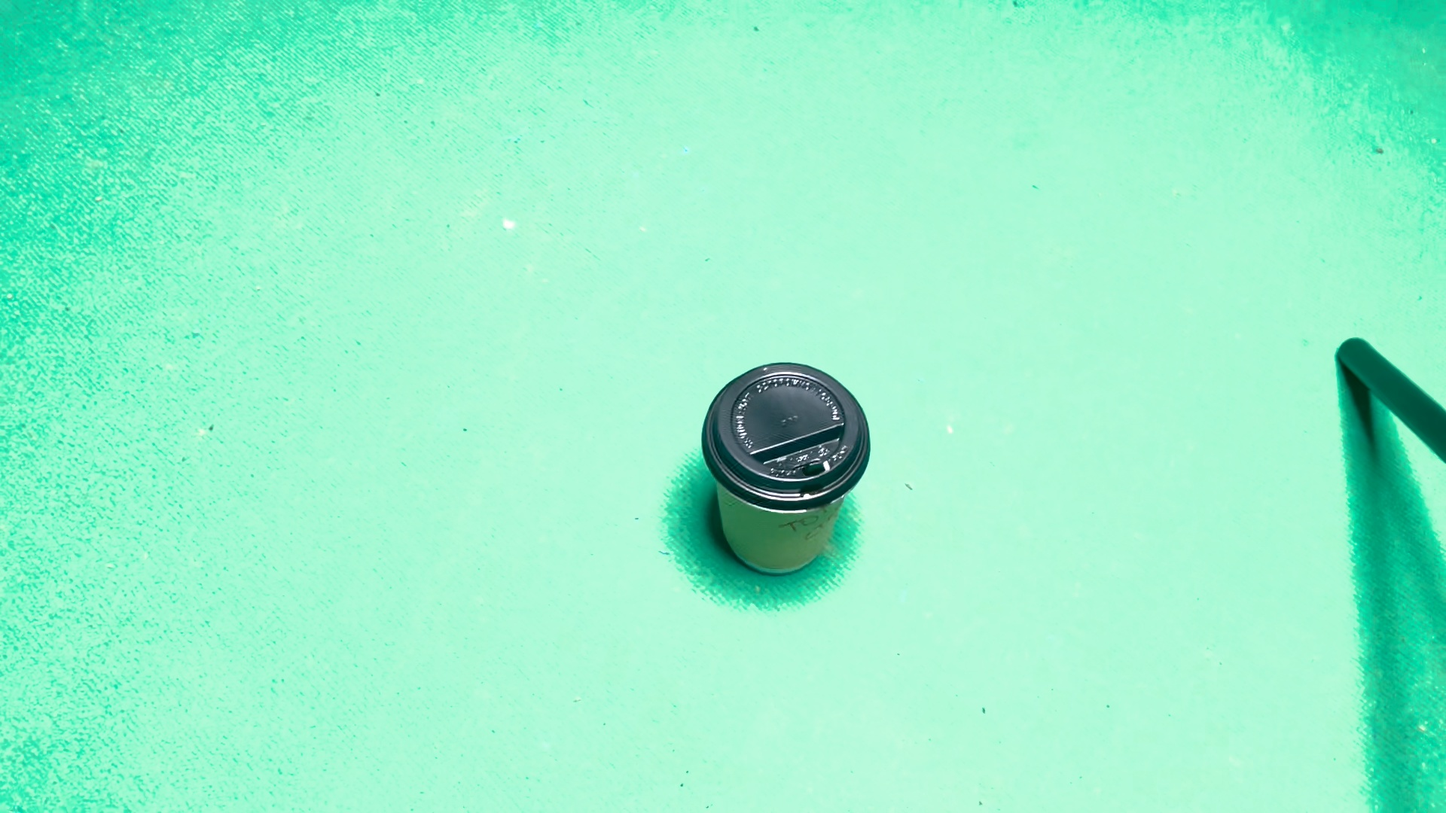cup: (734, 470, 832, 598)
